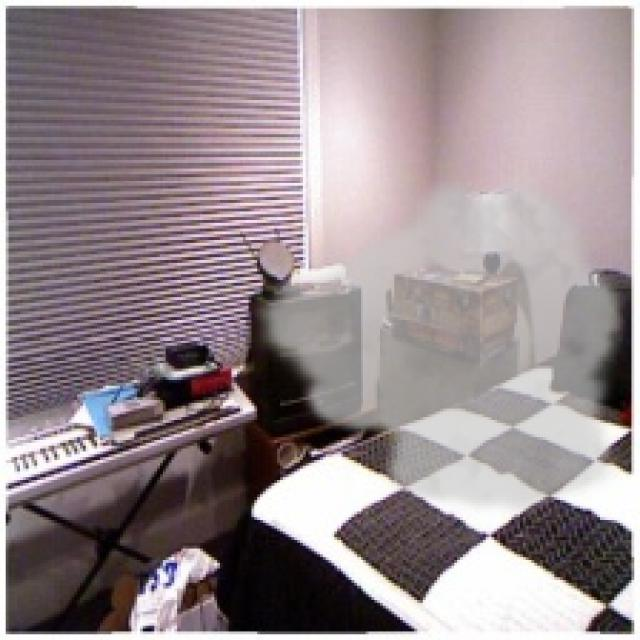smoke: (248, 169, 628, 517)
